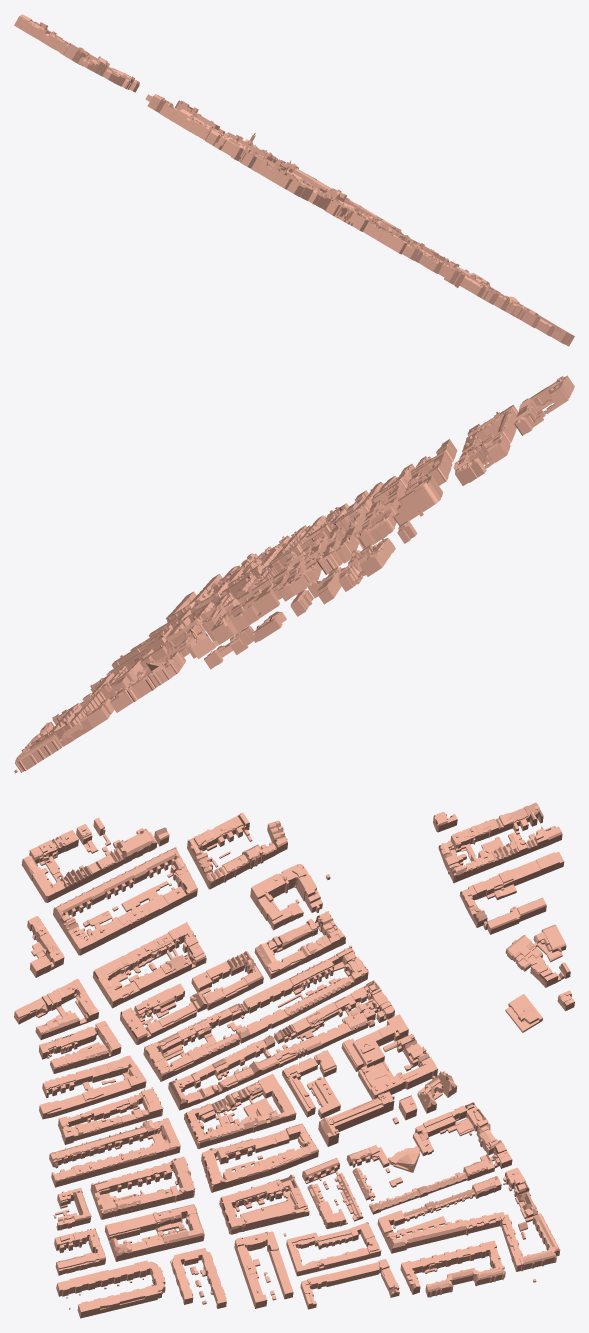
The picture shows the model from 3 angles, top to bottom: view 1: azimuth 30°, elevation 25°; view 2: azimuth 150°, elevation 25°; view 3: azimuth 270°, elevation 25°; orthographic projection. The views are drawn at different scales.
Size of the model in its own units: 1.79e+07 by 1.28e+07 by 2.05e+07.
